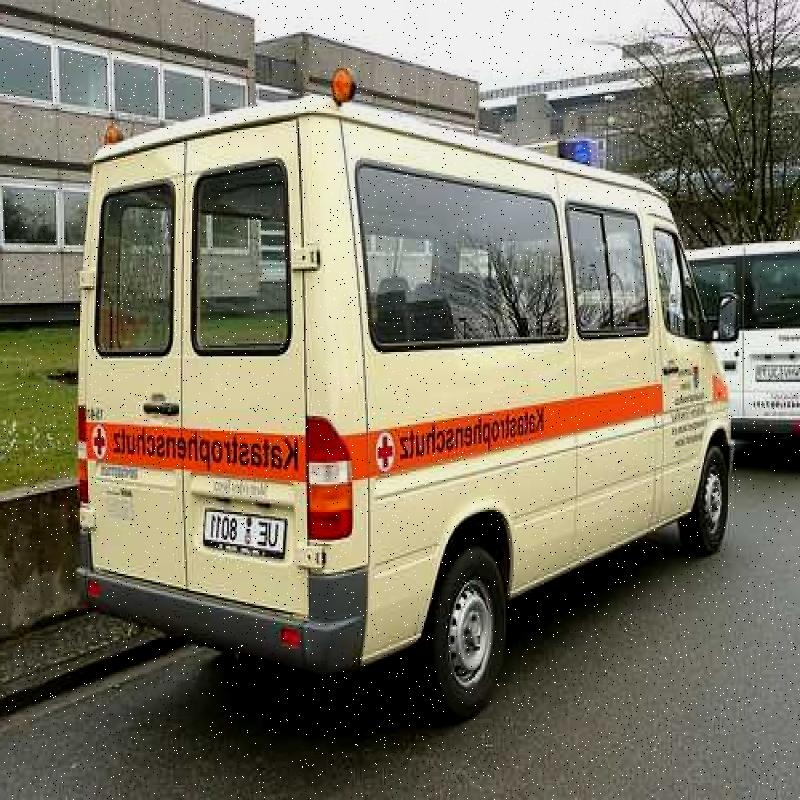AmbulanceSiren: (333, 45, 373, 117), (100, 107, 133, 165)
